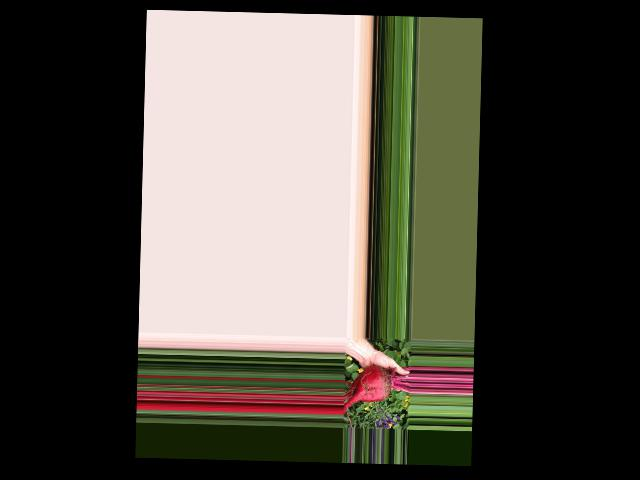beet: (342, 365, 410, 415)
